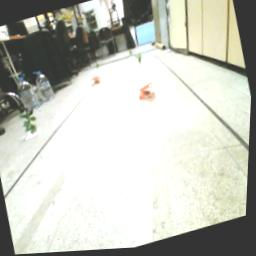herb: (17, 105, 43, 139), (136, 56, 145, 67)
wild: (136, 82, 159, 104), (90, 75, 104, 89)
